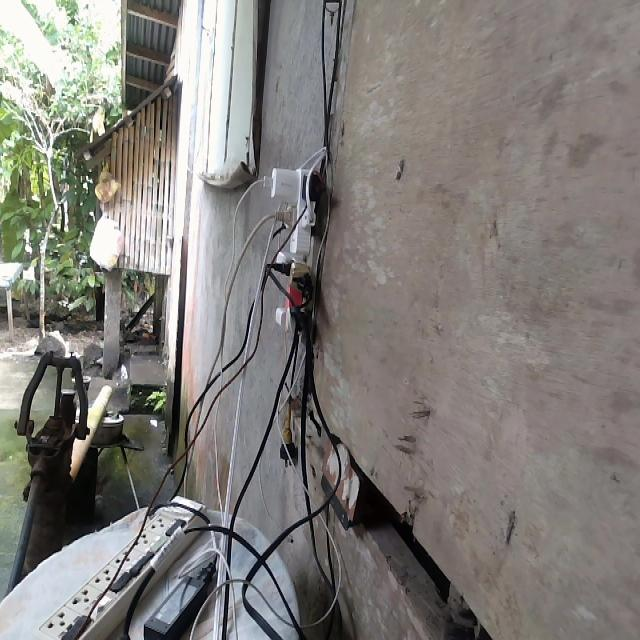-: (254, 160, 324, 335)
